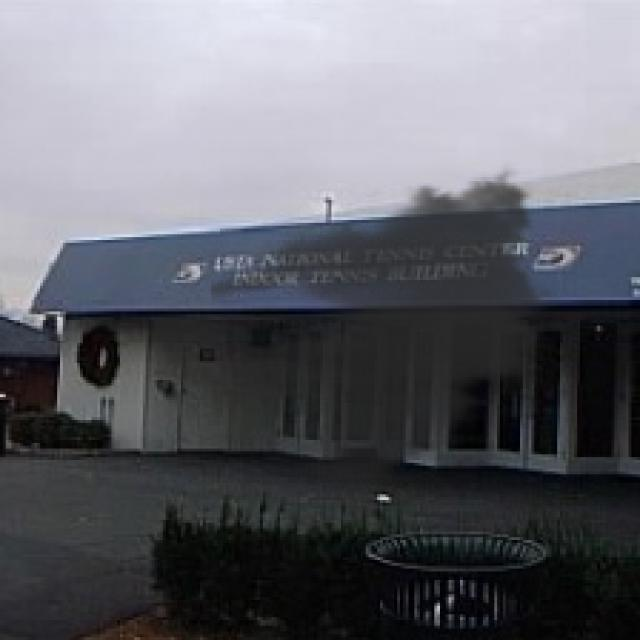Smoke: (211, 160, 563, 506)
